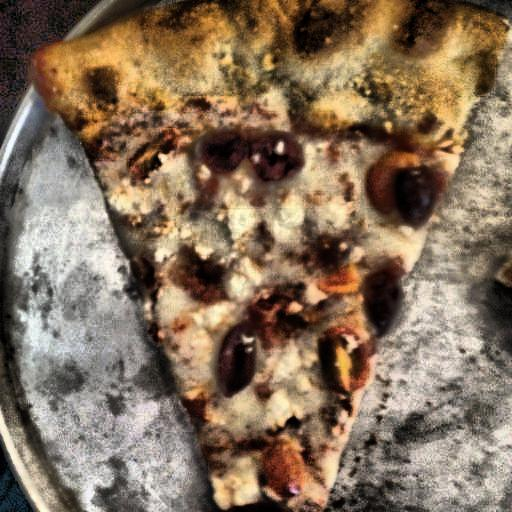pizza: (29, 20, 477, 512)
